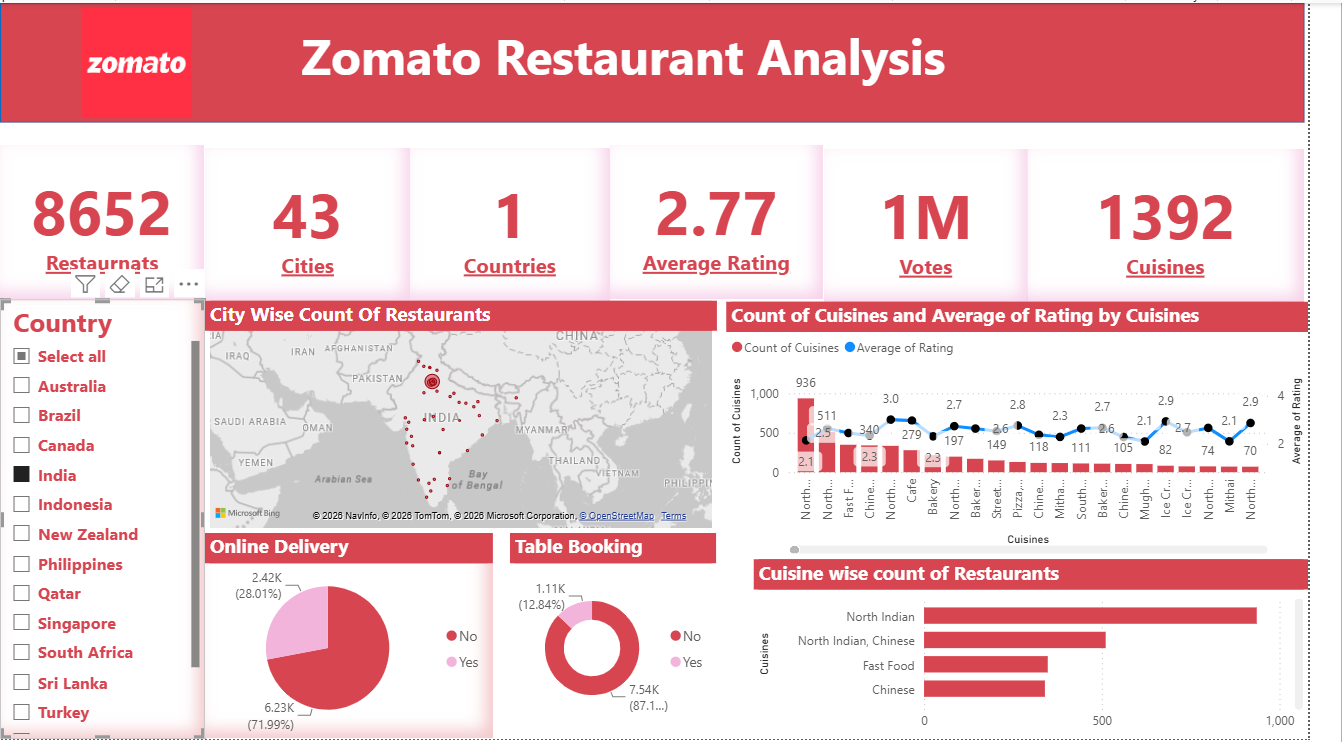

The page's visual inventory and layout, read from the dashboard file:
{"tool":"powerbi","page":{"name":"Page 1","canvas":[1280,720],"ordinal":0},"visuals":[{"type":"shape","box":[0,0,1276.2,117.1],"z":0},{"type":"textbox","box":[267.9,13.5,683.9,91.5],"z":1000},{"type":"card","fields":{"Values":["Count(Restaurants.RestaurantID)"]},"box":[0,140,200,150],"z":2000},{"type":"card","fields":{"Values":["Count(Restaurants.City)"]},"box":[200,141.4,201.4,150],"z":3000},{"type":"card","fields":{"Values":["Count(Restaurants.CountryCode)"]},"box":[401.4,141.4,195.7,150],"z":4000},{"type":"card","fields":{"Values":["Avg(Restaurants.Rating)"]},"box":[597.1,140,208.6,150],"z":5000},{"type":"card","fields":{"Values":["Sum(Restaurants.Votes)"]},"box":[805.7,142.9,200,150],"z":6000},{"type":"card","fields":{"Values":["Count(Restaurants.Cuisines)"]},"box":[1005.7,142.9,270,150],"z":7000},{"type":"slicer","fields":{"Values":["countries.country name"]},"box":[0,289.4,200.6,430.8],"z":8000},{"type":"lineStackedColumnComboChart","fields":{"Y":["CountNonNull(Restaurants.Cuisines)"],"Y2":["Avg(Restaurants.Rating)"],"Category":["Restaurants.Cuisines"]},"box":[710.8,292.1,569.5,251.7],"z":9000},{"type":"map","title":"City Wise Count Of Restaurants","fields":{"Category":["Restaurants.City"],"Size":["CountNonNull(Restaurants.RestaurantID)"]},"box":[200.6,290.8,500.8,227.5],"z":10000},{"type":"clusteredBarChart","title":"Cuisine wise count of Restaurants","fields":{"Category":["Restaurants.Cuisines"],"Y":["CountNonNull(Restaurants.Cuisines)"]},"box":[737.7,543.9,542.5,176.4],"z":11000},{"type":"pieChart","title":"Online Delivery","fields":{"Category":["Restaurants.Has_Online_delivery"],"Y":["CountNonNull(Restaurants.RestaurantID)"]},"box":[200.6,518.3,281.4,200.6],"z":12000},{"type":"donutChart","title":"Table Booking","fields":{"Category":["Restaurants.Has_Table_booking"],"Y":["CountNonNull(Restaurants.RestaurantID)"]},"box":[499.5,518.3,201.9,200.6],"z":13000},{"type":"image","box":[0,0,267.9,117.1],"z":14000}]}

Visuals, with their boxes in screenshot pixels (x1, y1, x2, y2), scaled from the page's 1280x720 canvas onto the 1342x742 screenshot:
shape: [left=0, top=0, right=1338, bottom=121]
textbox: [left=281, top=14, right=998, bottom=108]
card - Count(Restaurants.RestaurantID): [left=0, top=144, right=210, bottom=299]
card - Count(Restaurants.City): [left=210, top=146, right=421, bottom=300]
card - Count(Restaurants.CountryCode): [left=421, top=146, right=626, bottom=300]
card - Avg(Restaurants.Rating): [left=626, top=144, right=845, bottom=299]
card - Sum(Restaurants.Votes): [left=845, top=147, right=1054, bottom=302]
card - Count(Restaurants.Cuisines): [left=1054, top=147, right=1337, bottom=302]
slicer - countries.country name: [left=0, top=298, right=210, bottom=741]
lineStackedColumnComboChart - CountNonNull(Restaurants.Cuisines) x Avg(Restaurants.Rating): [left=745, top=301, right=1341, bottom=560]
"City Wise Count Of Restaurants" map: [left=210, top=300, right=735, bottom=534]
"Cuisine wise count of Restaurants" clusteredBarChart: [left=773, top=561, right=1341, bottom=741]
"Online Delivery" pieChart: [left=210, top=534, right=505, bottom=741]
"Table Booking" donutChart: [left=524, top=534, right=735, bottom=741]
image: [left=0, top=0, right=281, bottom=121]
